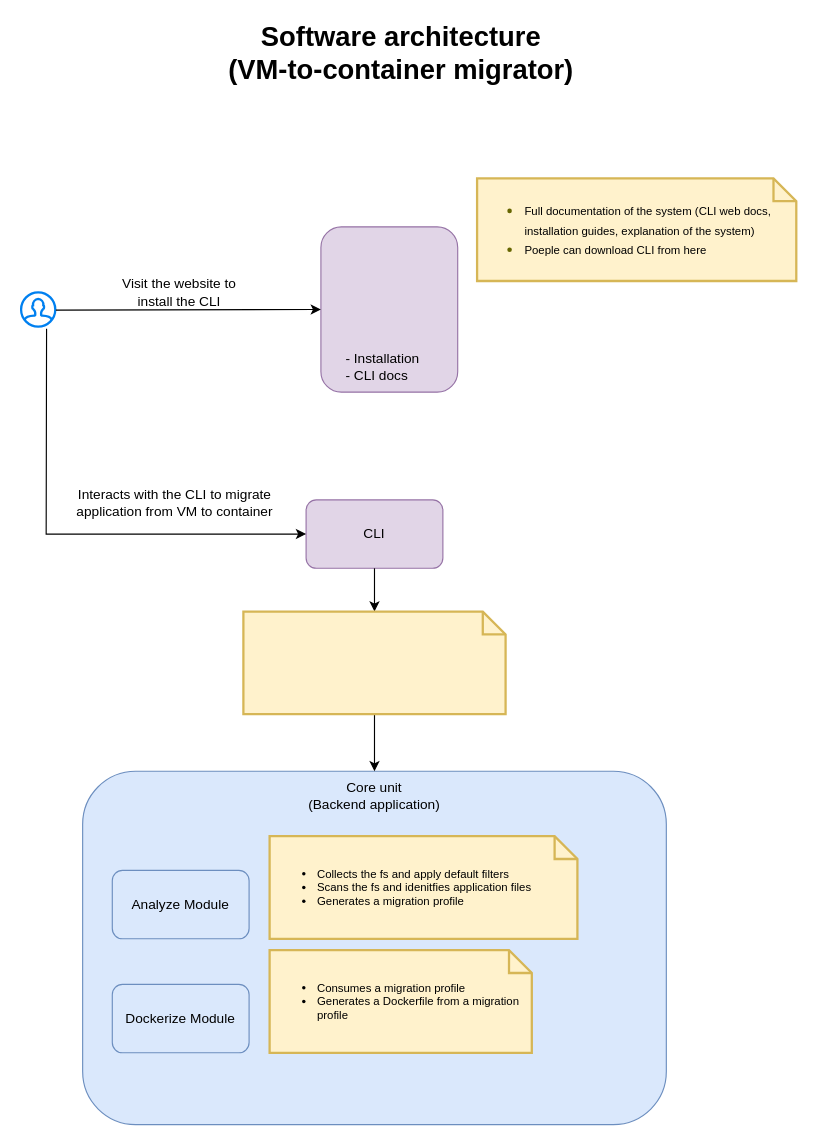
Image size: 816x1145. Some labels were removed from this diagram. The box of each missing label's shape, as (x1, y1, x2, y2) in pixels:
Send requests for two main features: Analyze Dockerize: (242, 610, 506, 715)
System Website: (320, 226, 458, 392)
